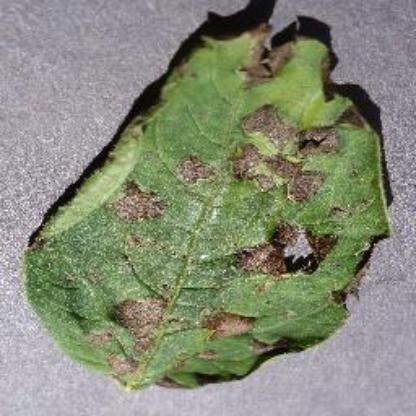Early-Blight: (24, 2, 414, 396)
